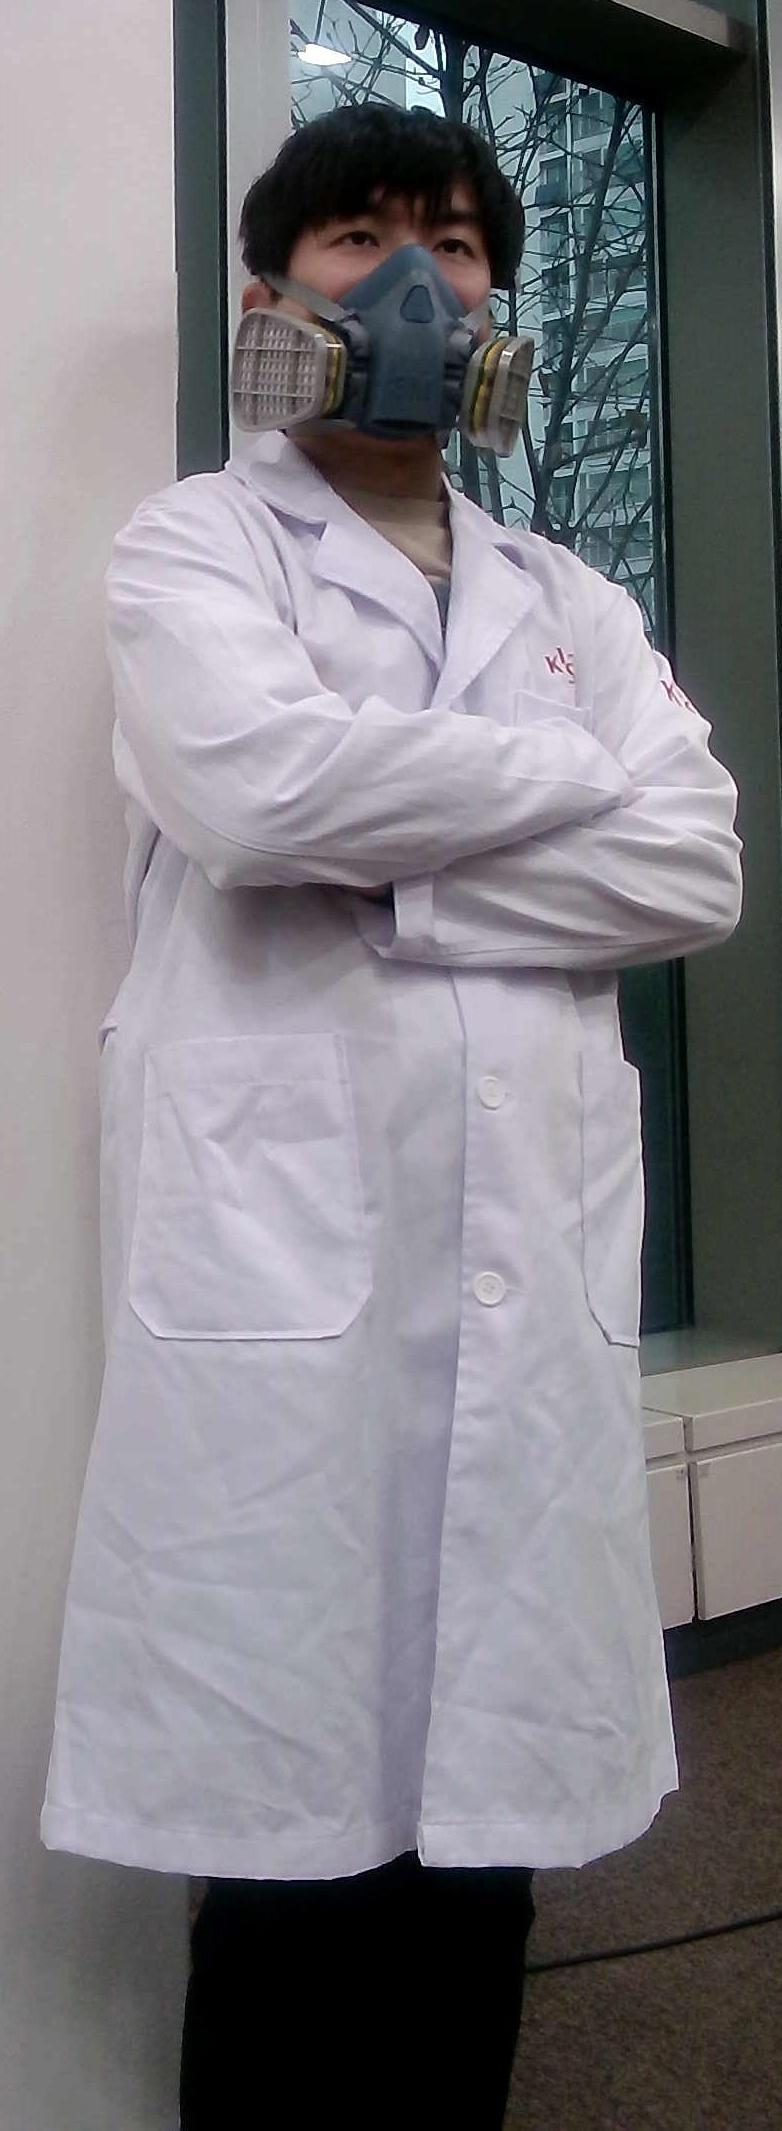lab_coat: (112, 481, 692, 1854)
